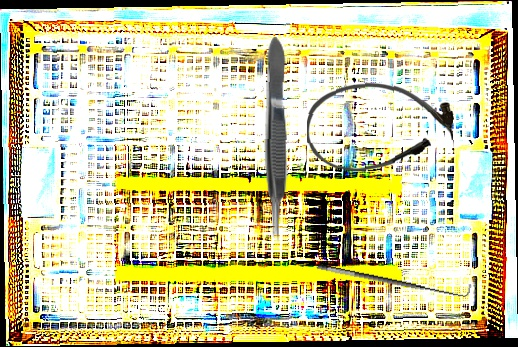Cannula: (305, 79, 455, 175)
Hook Surgical: (316, 251, 474, 304)
Tissue Forceps: (261, 37, 291, 242)
